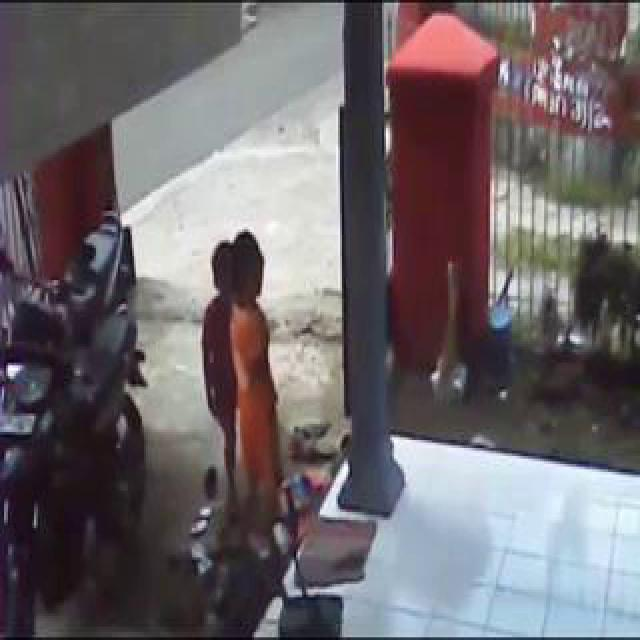road accidents: (84, 19, 503, 474)
